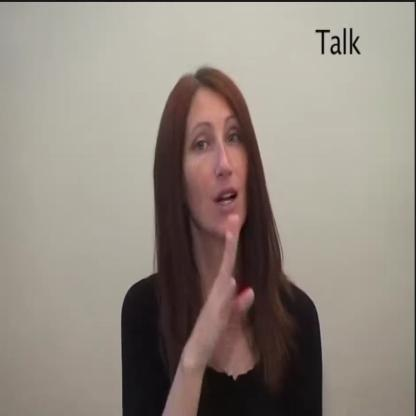Talk: (144, 44, 272, 364)
